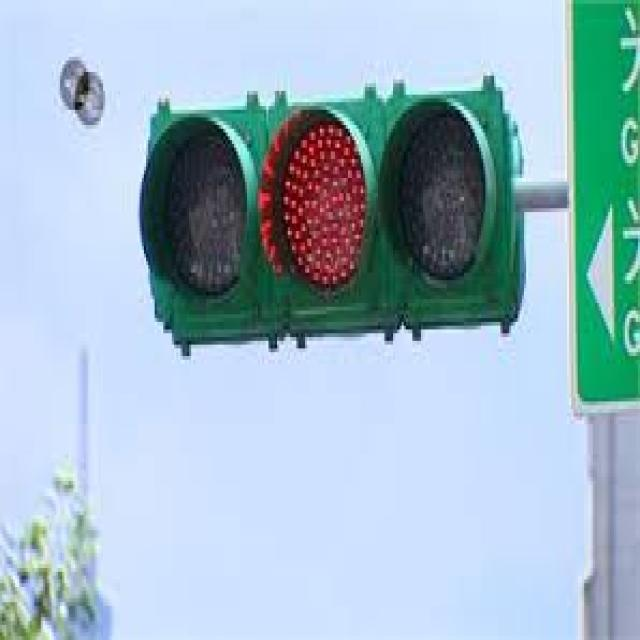red: (272, 104, 374, 270)
